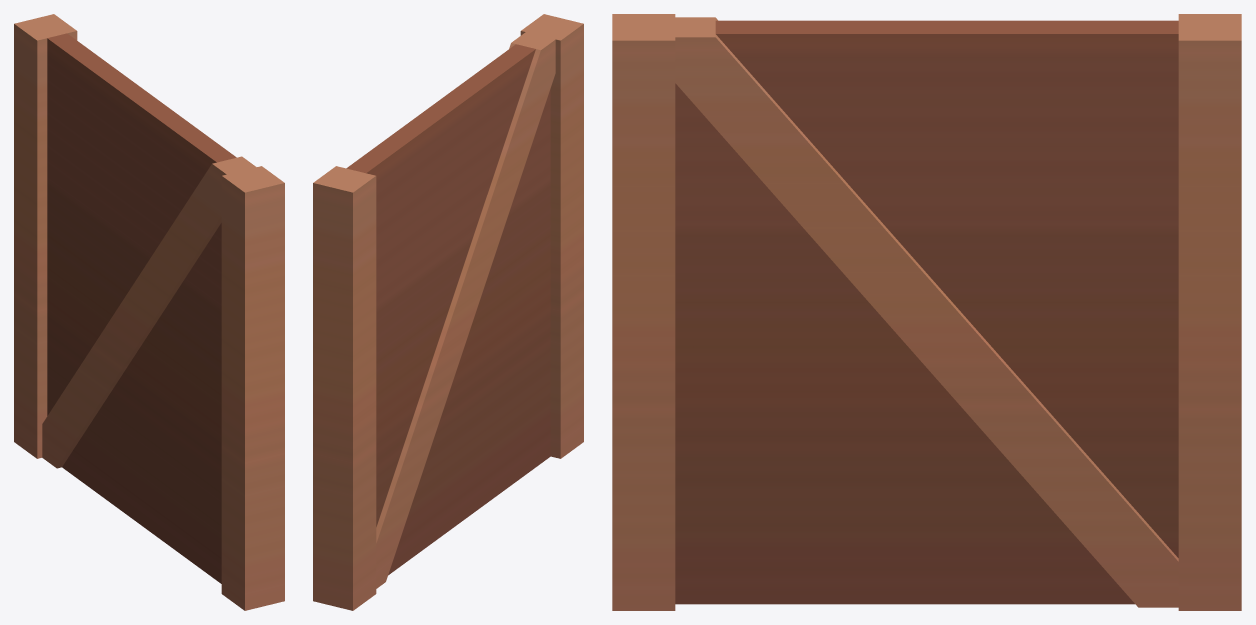
Rendered from wall-wood-detail-diagonal.glb.
3 renders of one model, left to right at view 1: azimuth 30°, elevation 25°; view 2: azimuth 150°, elevation 25°; view 3: azimuth 270°, elevation 25°, orthographic. The views are drawn at different scales.
Parts seen in each view (by area): view 1: wall-wood-detail-diagonal; view 2: wall-wood-detail-diagonal; view 3: wall-wood-detail-diagonal.
Boxes of the visible parts, x1=… form: wall-wood-detail-diagonal: x1=14, y1=14, x2=284, y2=610; wall-wood-detail-diagonal: x1=313, y1=14, x2=583, y2=610; wall-wood-detail-diagonal: x1=612, y1=14, x2=1241, y2=610.
Size of the model in its own units: 0.1 by 1 by 1.
Materials: 1 (1 with a texture image).
